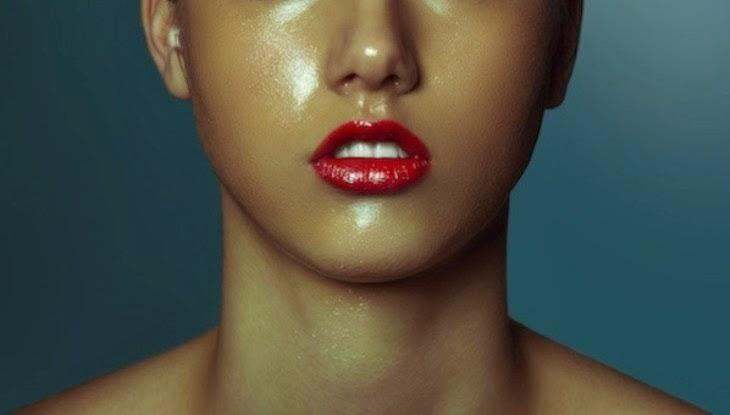Oily-Skin: (247, 1, 322, 125), (358, 2, 388, 69), (350, 200, 383, 234), (424, 0, 464, 18)
